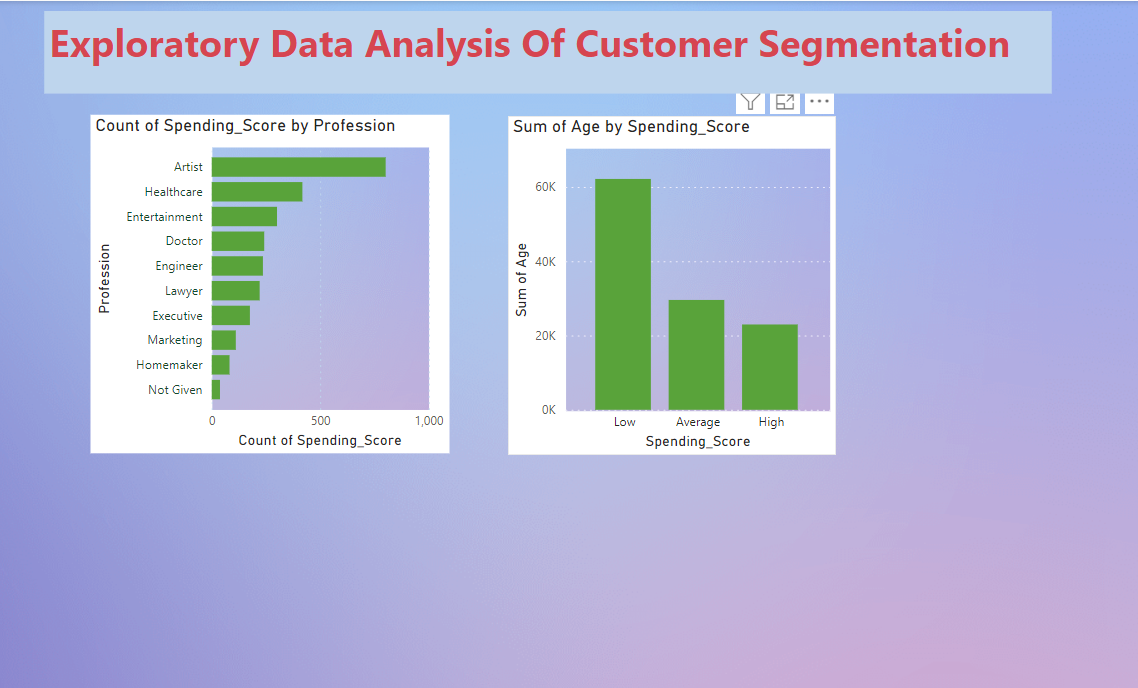

What the dashboard file says about the page in this screenshot:
{"tool":"powerbi","page":{"name":"Page 1","canvas":[1280,720],"ordinal":0},"visuals":[{"type":"columnChart","fields":{"Y":["Sum(Test.Age)"],"Category":["Test.Spending_Score"]},"box":[498.9,112.5,320.4,331.4],"z":0},{"type":"clusteredBarChart","fields":{"Category":["Test.Profession"],"Y":["CountNonNull(Test.Spending_Score)"]},"box":[90.5,111.3,351,331.4],"z":1},{"type":"textbox","box":[45.2,9.8,985.6,80.7],"z":2}]}

Visuals, with their boxes on the page's 1280x720 design canvas (x1, y1, x2, y2). These are canvas units, not pixel positions in the 1138x688 screenshot, which may show the page scaled, cropped or inside an application window:
columnChart - Sum(Test.Age) x Test.Spending_Score: bbox=(499, 112, 819, 444)
clusteredBarChart - Test.Profession x CountNonNull(Test.Spending_Score): bbox=(90, 111, 442, 443)
textbox: bbox=(45, 10, 1031, 90)
